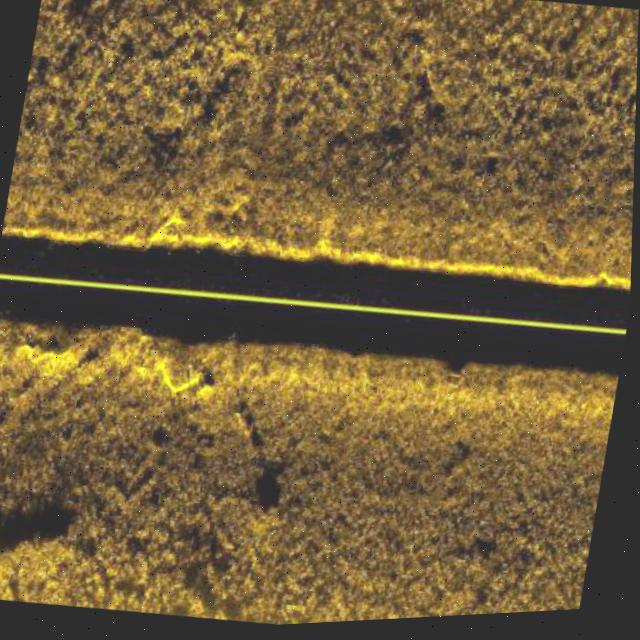mine: (185, 363, 197, 387)
